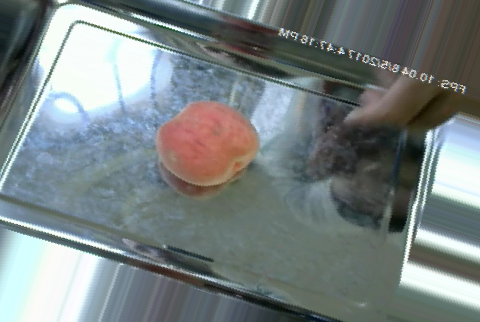Peach: (157, 100, 257, 186)
